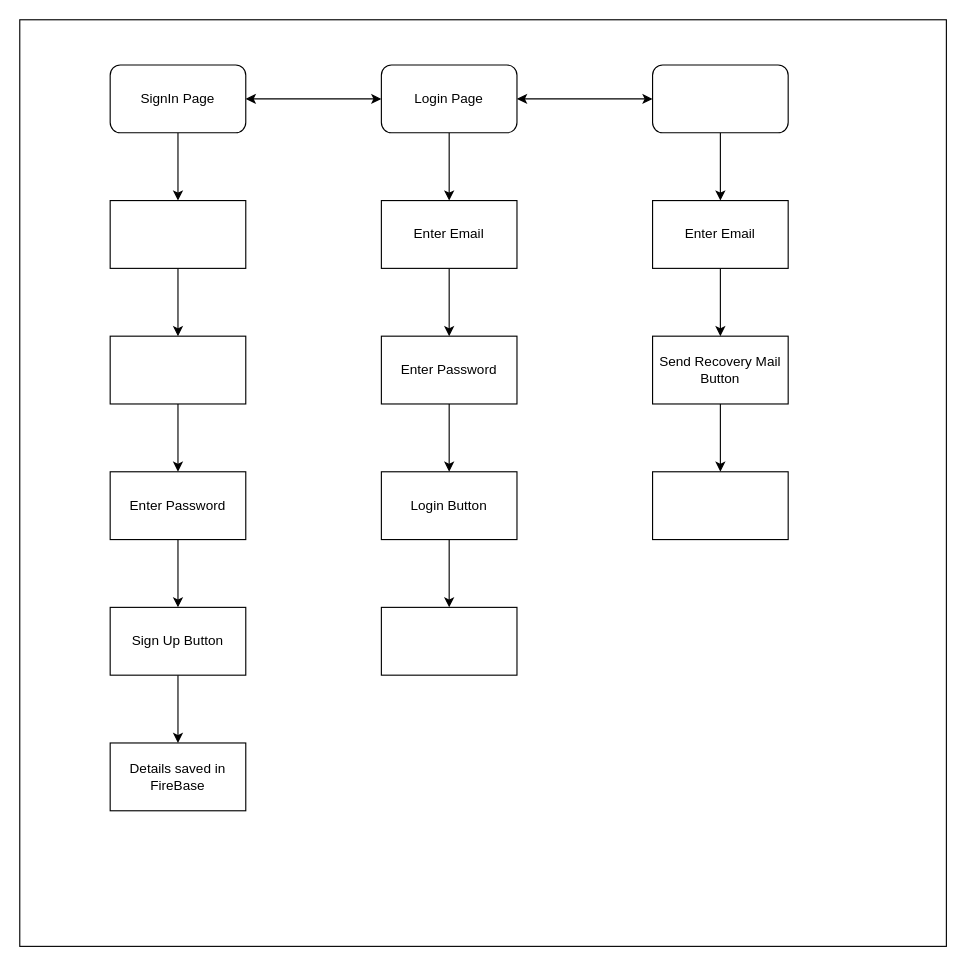
The diagram is 966 pixels wide and 966 high, and some of its shapes have lost their labels. Here are the shapes that lost their labels. From the top down, the box of each, then its label:
(651, 64, 788, 133): Forgot Password
(109, 199, 246, 268): Enter FirstName and Lastname
(109, 335, 246, 404): Enter Email ID
(651, 471, 788, 540): Recovery Email Sent through FireBase
(380, 606, 517, 675): Check Authentication using FireBase
